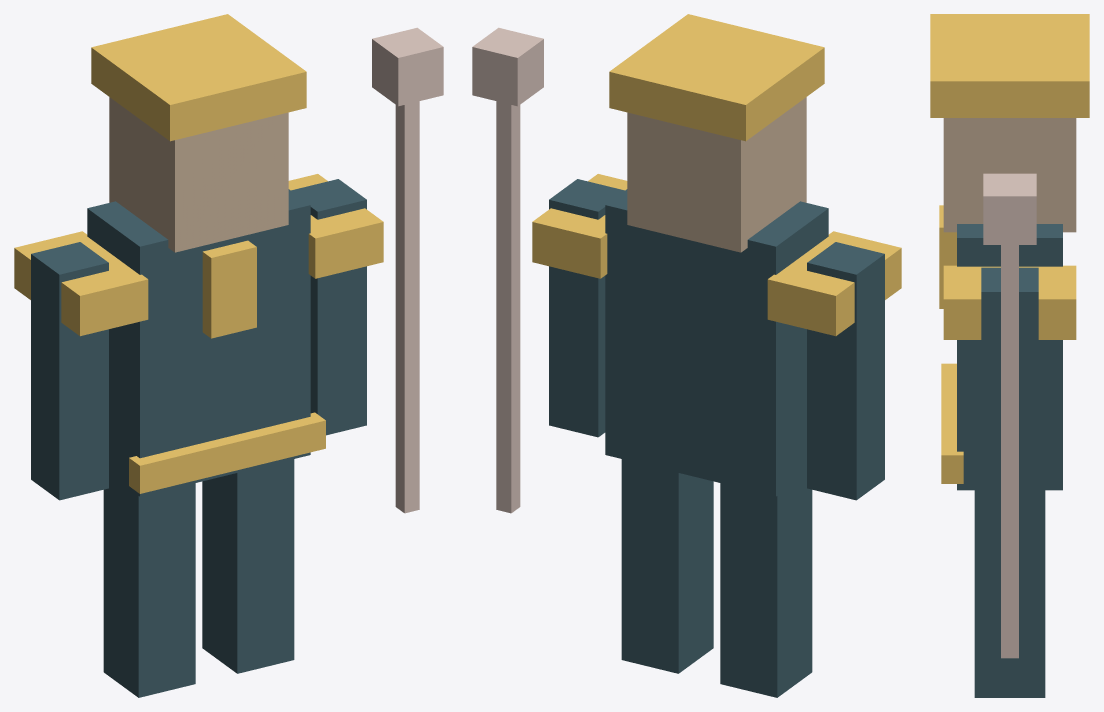
Rendered from 19_auren_gravesong_fixer_at.glb.
3 views of the same model, side by side, from view 1: azimuth 30°, elevation 25°; view 2: azimuth 150°, elevation 25°; view 3: azimuth 270°, elevation 25° (orthographic).
Parts seen in each view (by area): view 1: Auren Gravesong, Fixer at; view 2: Auren Gravesong, Fixer at; view 3: Auren Gravesong, Fixer at.
Part boxes in pixels (bbox=[...]): Auren Gravesong, Fixer at: bbox=[14, 14, 443, 697]; Auren Gravesong, Fixer at: bbox=[472, 14, 901, 697]; Auren Gravesong, Fixer at: bbox=[930, 14, 1089, 697].
Size of the model in its own units: 1.02 by 1.54 by 0.3627.
